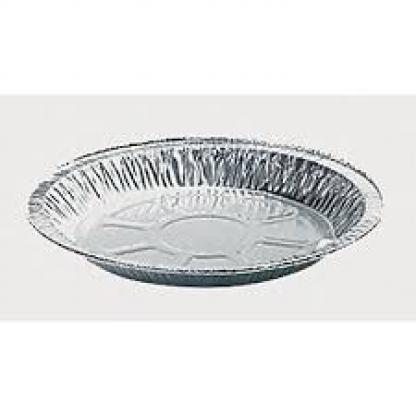METAL: (20, 131, 388, 285)
